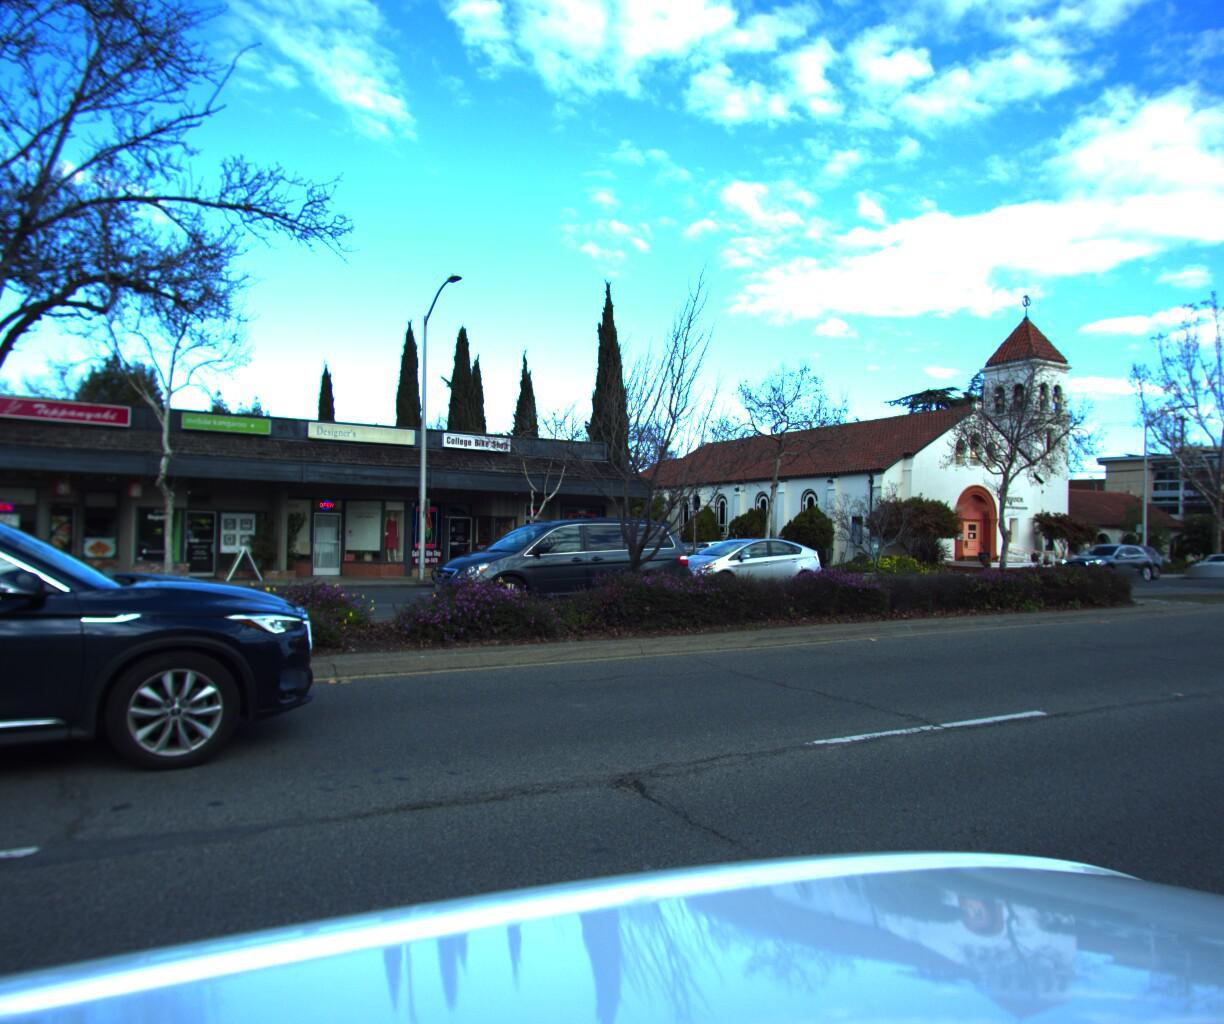car: (0, 474, 346, 901), (416, 506, 697, 614), (660, 534, 827, 596), (418, 537, 589, 591), (1049, 538, 1153, 577), (1065, 538, 1162, 576), (1178, 546, 1224, 574), (1213, 527, 1224, 594)
